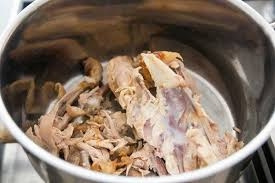kitchen_waste: (102, 47, 230, 178), (78, 86, 129, 164), (34, 114, 79, 159)
